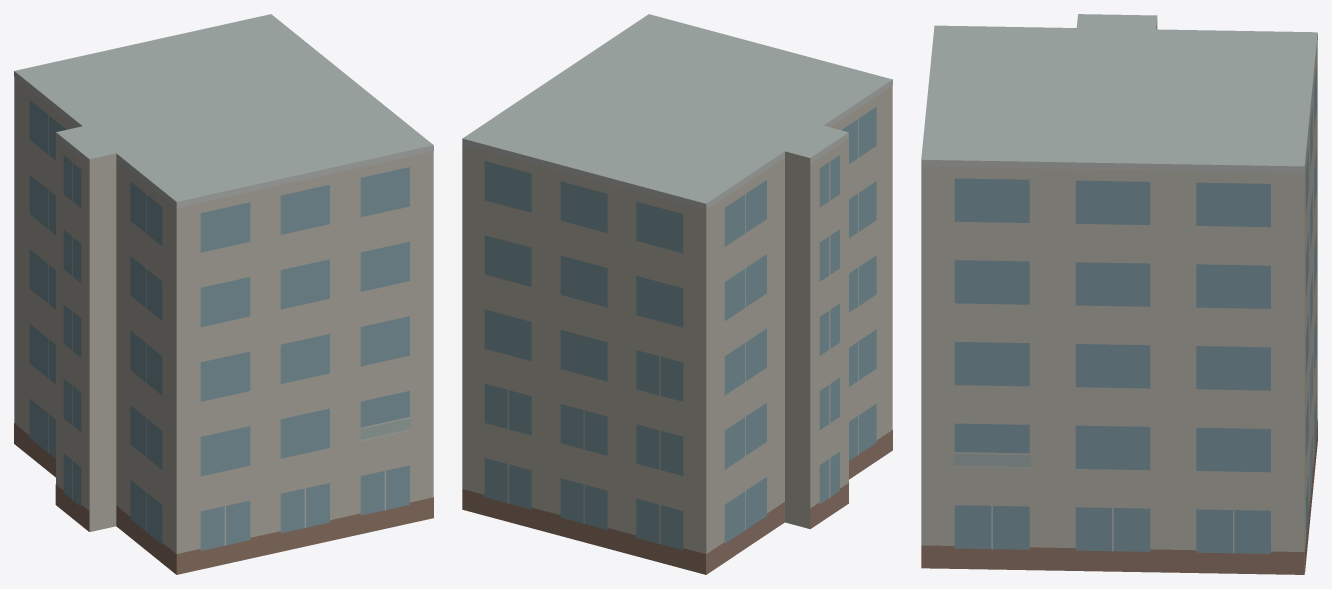
File: survey-upis-32992053.glb
3 views of the same model, side by side, from view 1: azimuth 30°, elevation 25°; view 2: azimuth 150°, elevation 25°; view 3: azimuth 270°, elevation 25° (orthographic). The views are drawn at different scales.
Visible parts, largest first — view 1: survey-upis-32992053.tmp; view 2: survey-upis-32992053.tmp; view 3: survey-upis-32992053.tmp.
Part boxes in pixels (left/top/right/bottom): survey-upis-32992053.tmp: left=14, top=14, right=433, bottom=574; survey-upis-32992053.tmp: left=462, top=14, right=892, bottom=574; survey-upis-32992053.tmp: left=921, top=14, right=1317, bottom=574.
Bounding box in the file's own units: 11.85 × 14.8 × 13.03.
